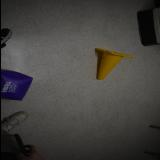cone: (94, 48, 133, 80)
cube: (0, 69, 32, 101)
